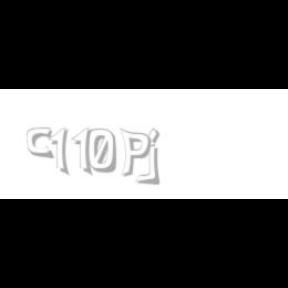0: (88, 128, 120, 174)
1: (48, 128, 70, 176), (71, 128, 93, 176)
P: (119, 128, 151, 178)
c: (26, 128, 55, 160)
j: (146, 128, 174, 186)
